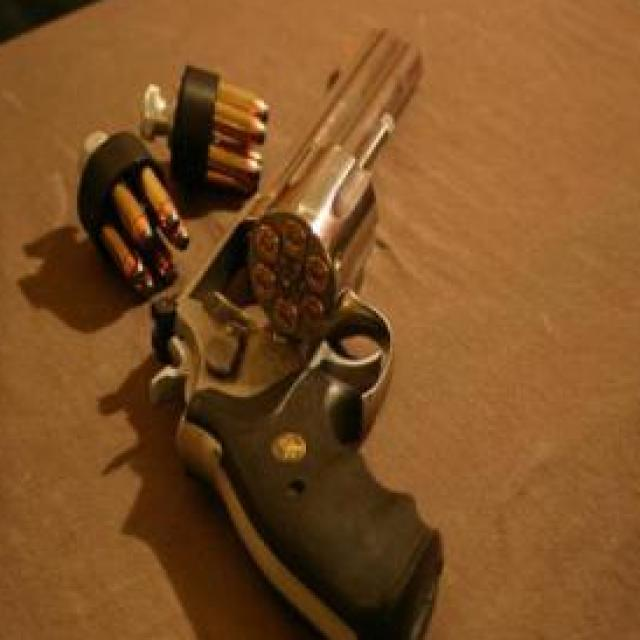pistol: (147, 23, 451, 640)
